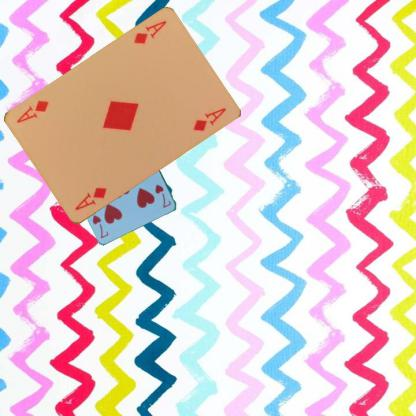7h: (152, 182, 172, 209)
Ad: (131, 18, 168, 46), (72, 185, 108, 212)
